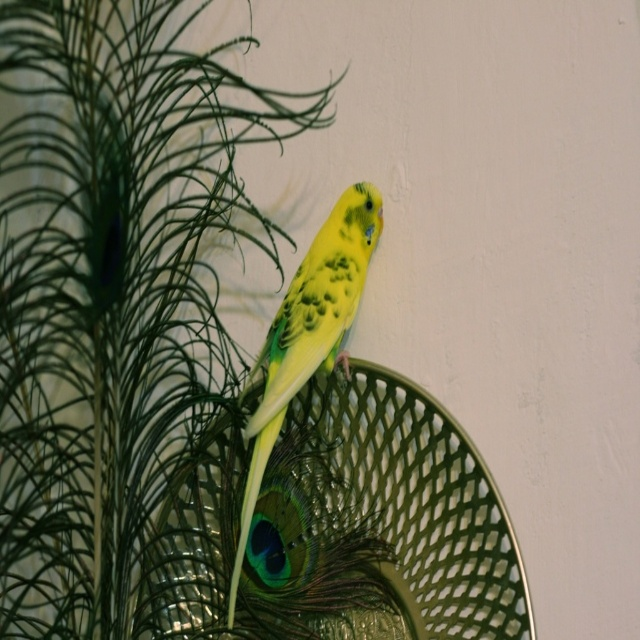Parrot: (233, 175, 390, 626)
